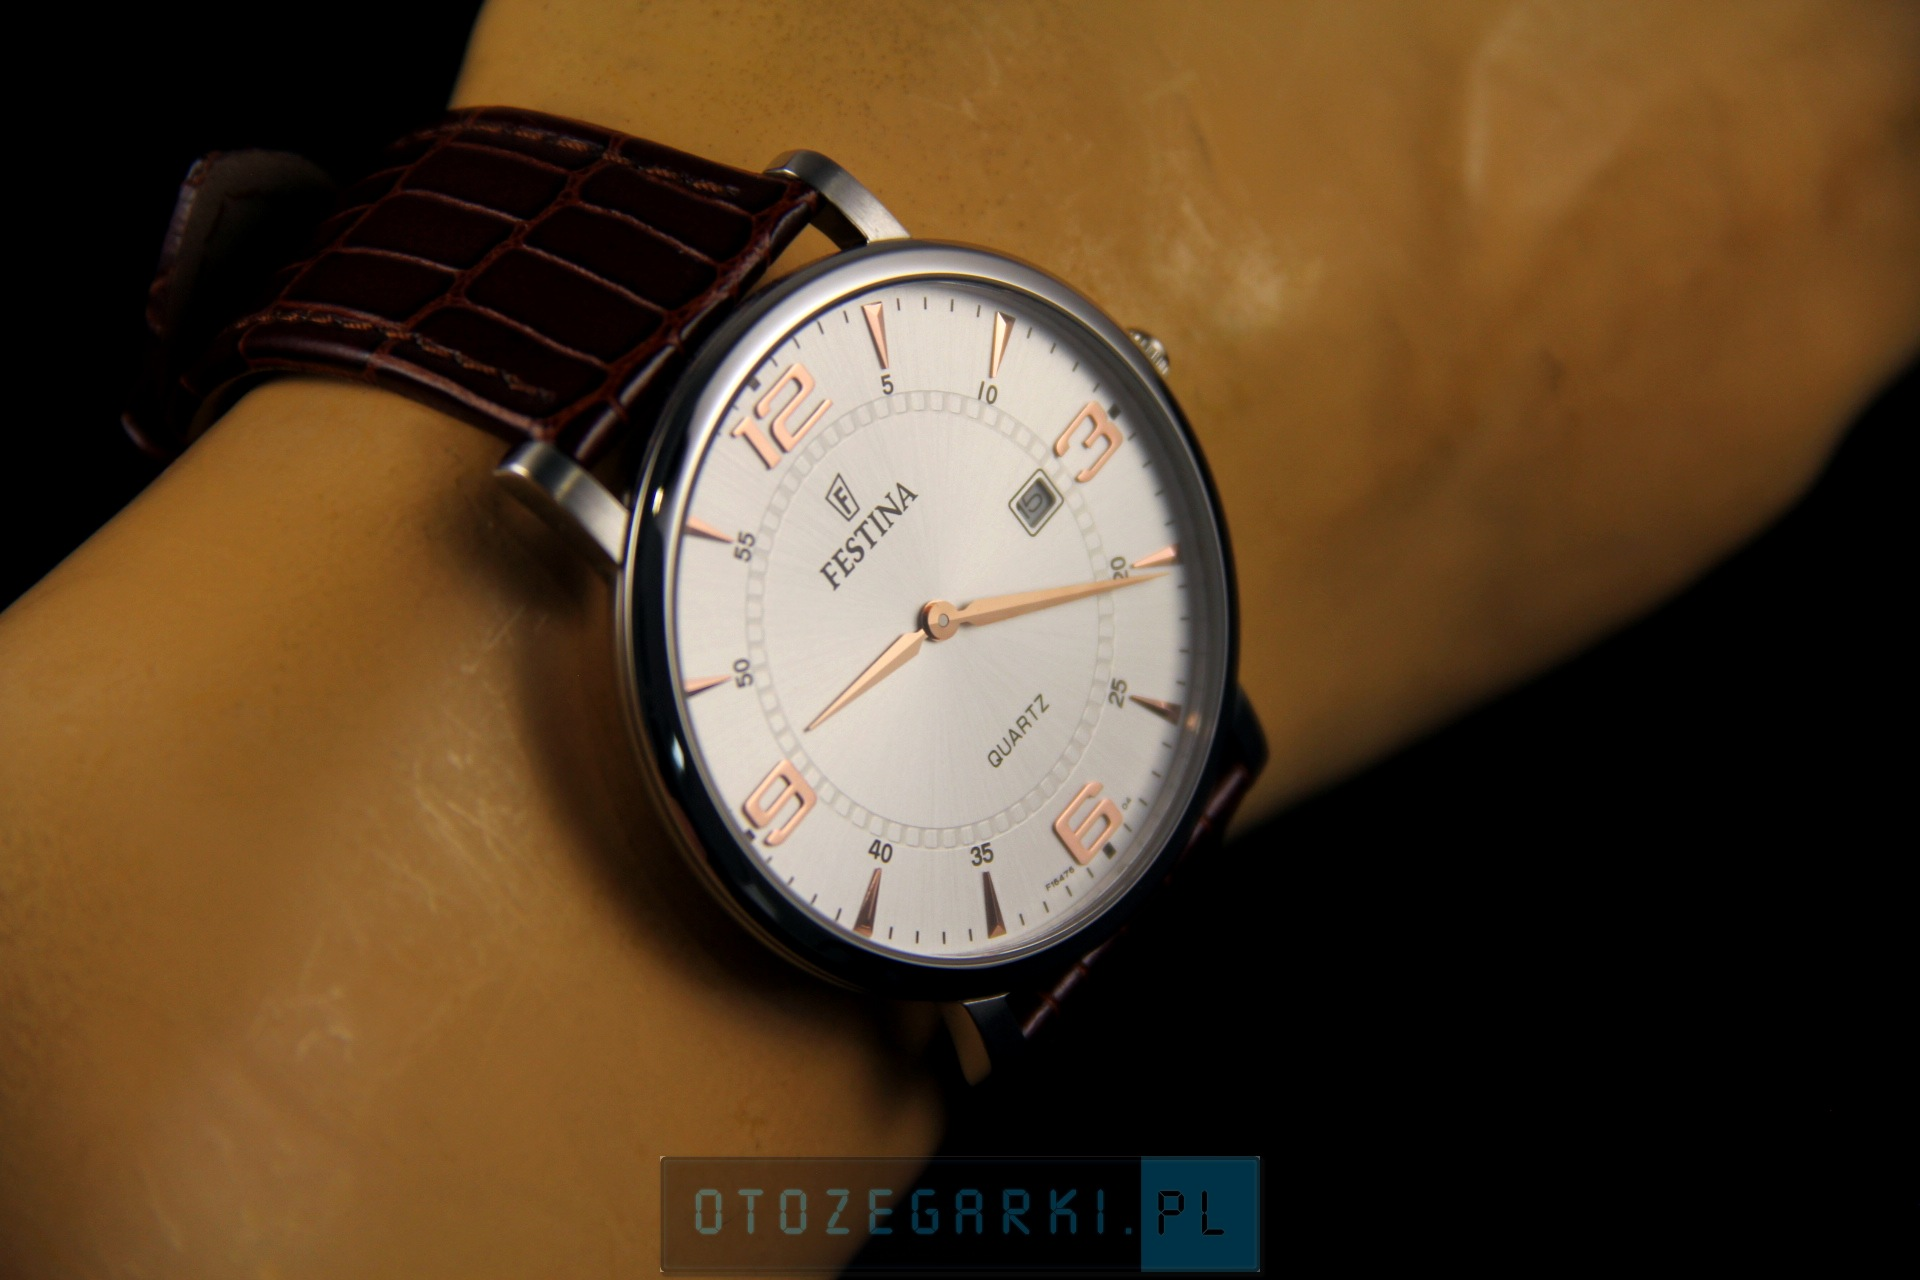clock: (664, 276, 1234, 961)
